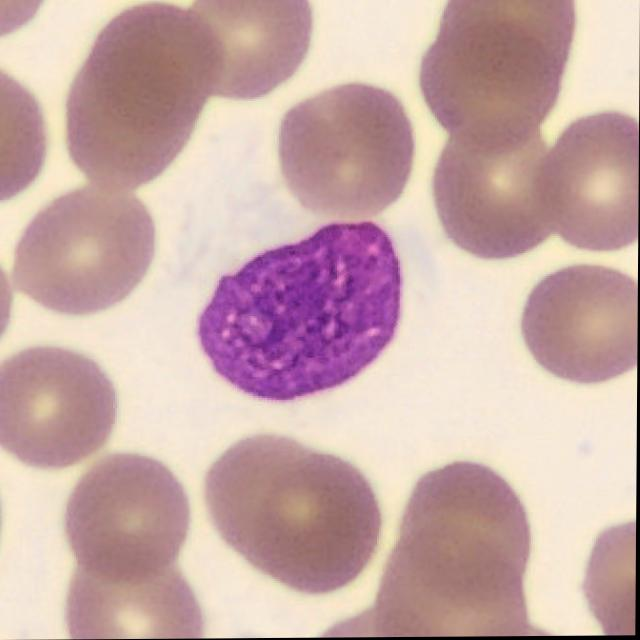Restos celulares: (196, 219, 404, 400)
